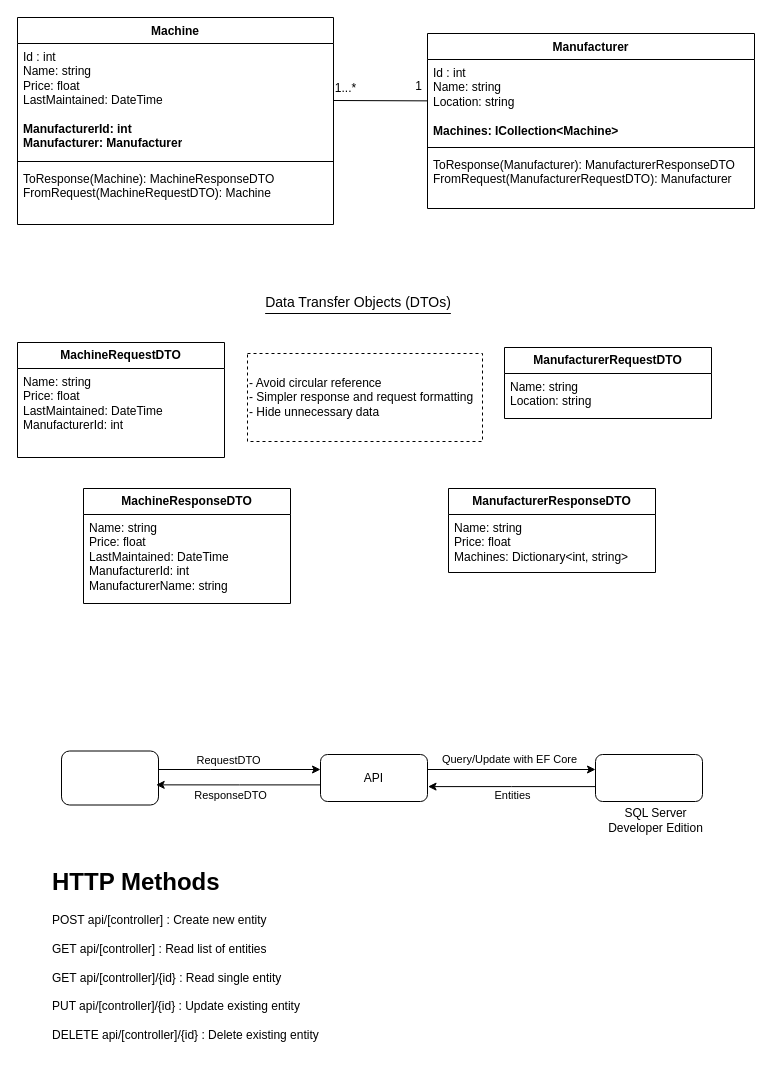
This 772x1067 diagram has some shape labels left out. The shapes that lost their labels are listed below. From the top down, each one's centre as x and y in pixels, then its label:
pixel 109 777: Client
pixel 648 778: DB
